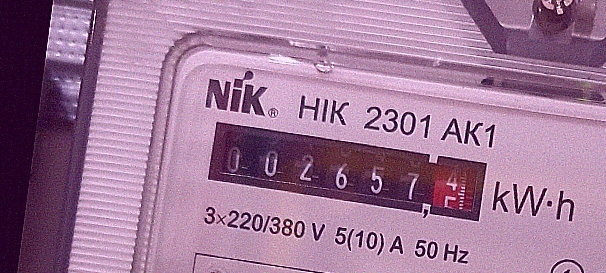0: (223, 143, 243, 174), (261, 146, 280, 178)
2: (296, 152, 316, 183)
4: (443, 164, 461, 191)
5: (367, 163, 386, 195), (441, 193, 458, 209)
6: (332, 159, 350, 190)
7: (402, 168, 421, 202)
screen: (196, 109, 500, 234)
